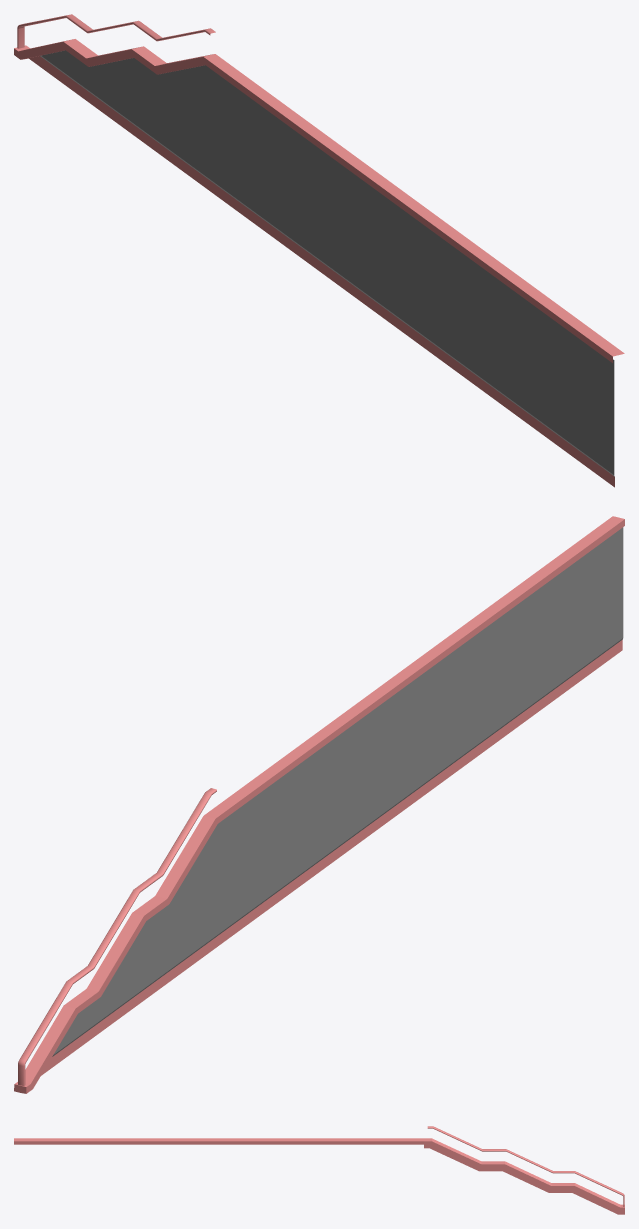
The model's file is S_Envi_Umeda_Building_005B.gltf.
3 renders of one model, top to bottom at view 1: azimuth 30°, elevation 25°; view 2: azimuth 150°, elevation 25°; view 3: azimuth 270°, elevation 25°, orthographic. The views are drawn at different scales.
Parts seen in each view (by area): view 1: S_Envi_Umeda_Building_005B; view 2: S_Envi_Umeda_Building_005B; view 3: S_Envi_Umeda_Building_005B.
Boxes of the visible parts, x1,y1,x2,y2 form: S_Envi_Umeda_Building_005B: (14,14,624,487); S_Envi_Umeda_Building_005B: (14,516,624,1093); S_Envi_Umeda_Building_005B: (14,1126,624,1214).
Bounding box in the file's own units: 0.408 × 5.31 × 34.03.
